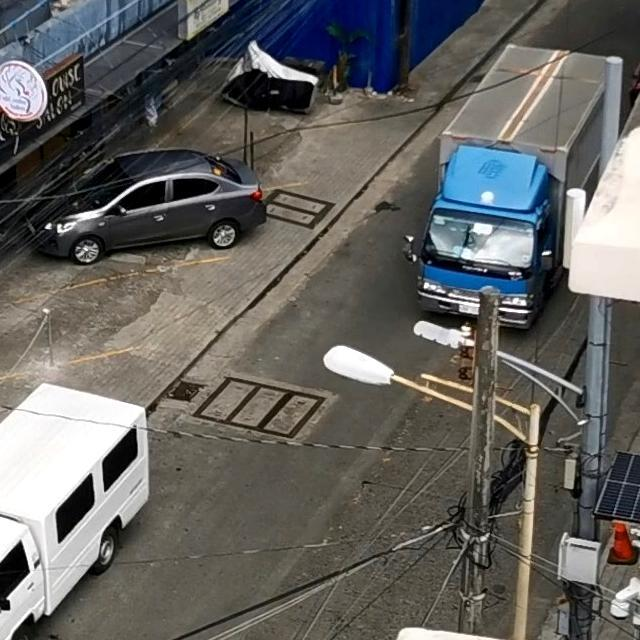Car: (0, 384, 146, 640), (27, 148, 260, 263)
